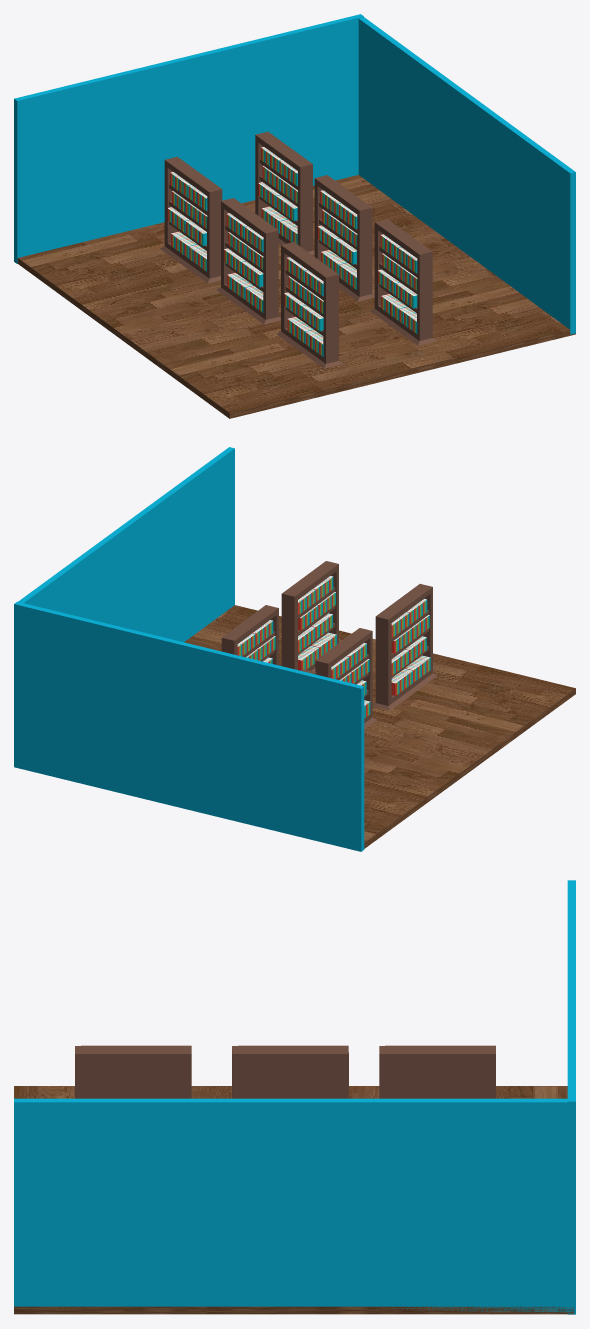
Rendered from HotJudyhoppsSexvideo.glb.
The picture shows the model from 3 angles, top to bottom: view 1: azimuth 30°, elevation 25°; view 2: azimuth 150°, elevation 25°; view 3: azimuth 270°, elevation 25°; orthographic projection. The views are drawn at different scales.
Parts seen in each view (by area): view 1: Cube.001, Cube, Cube.002, group1295511530.004, group1295511530.005, group1295511530.002, group1295511530.003, group1295511530.001, group1295511530; view 2: Cube.001, Cube.002, Cube, group1295511530.005, group1295511530.004, group1295511530.002, group1295511530.001; view 3: Cube.002, Cube, group1295511530.002, group1295511530.003, group1295511530.005, Cube.001.
Boxes of the visible parts, x1,y1,x2,y2 form: Cube.001: (14,14,363,263); Cube: (17,175,575,418); Cube.002: (358,17,575,334); group1295511530.004: (370,219,436,345); group1295511530.005: (276,242,343,368); group1295511530.002: (216,198,280,324); group1295511530.003: (160,156,222,283); group1295511530.001: (314,175,374,301); group1295511530: (255,131,314,254); Cube.001: (14,601,364,851); Cube.002: (18,447,234,642); Cube: (184,605,575,848); group1295511530.005: (372,584,437,710); group1295511530.004: (281,561,338,671); group1295511530.002: (315,628,376,729); group1295511530.001: (221,605,278,665); Cube.002: (14,1098,572,1312); Cube: (14,1086,573,1314); group1295511530.002: (232,1045,348,1098); group1295511530.003: (379,1045,495,1098); group1295511530.005: (75,1045,191,1098); Cube.001: (567,880,575,1314).
Size of the model in its own units: 14.52 by 6.52 by 15.59.
Materials: 7 (1 with a texture image).
